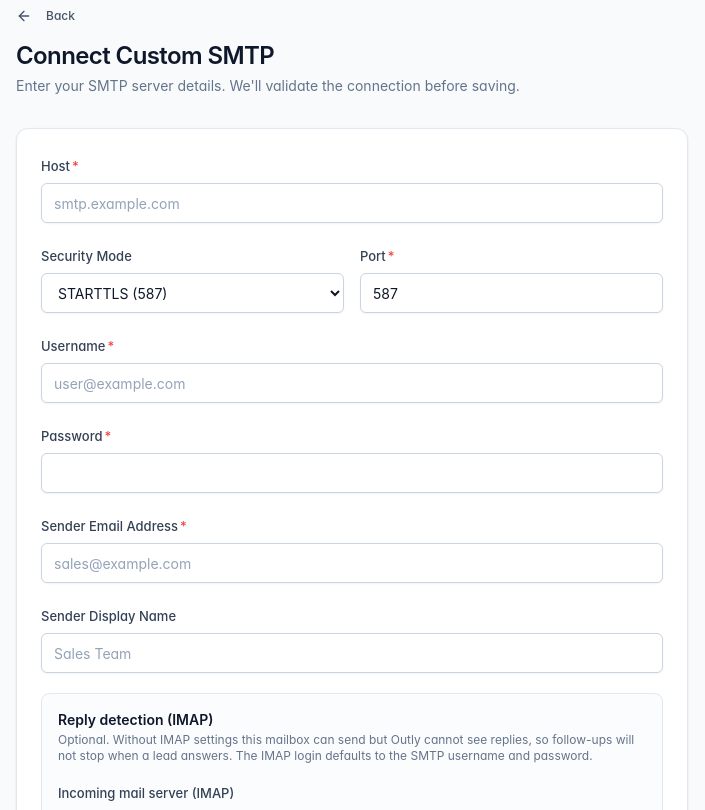
Scenario: SmtpConnectClient › updates the default port when the security mode changes
Expected: the number field labelled "Port*" holds "587", [360, 273, 663, 313]
Select "Implicit TLS (465)" in the dropdown labelled "Security Mode" at coordinates (192, 293), box [41, 273, 344, 313]
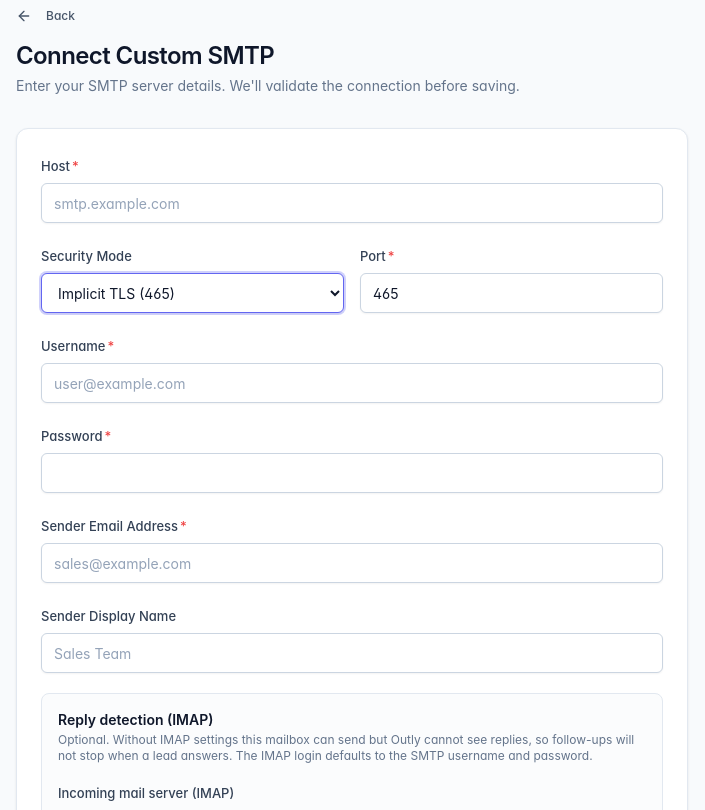
Now the number field labelled "Port*" holds "465", box [360, 273, 663, 313]
